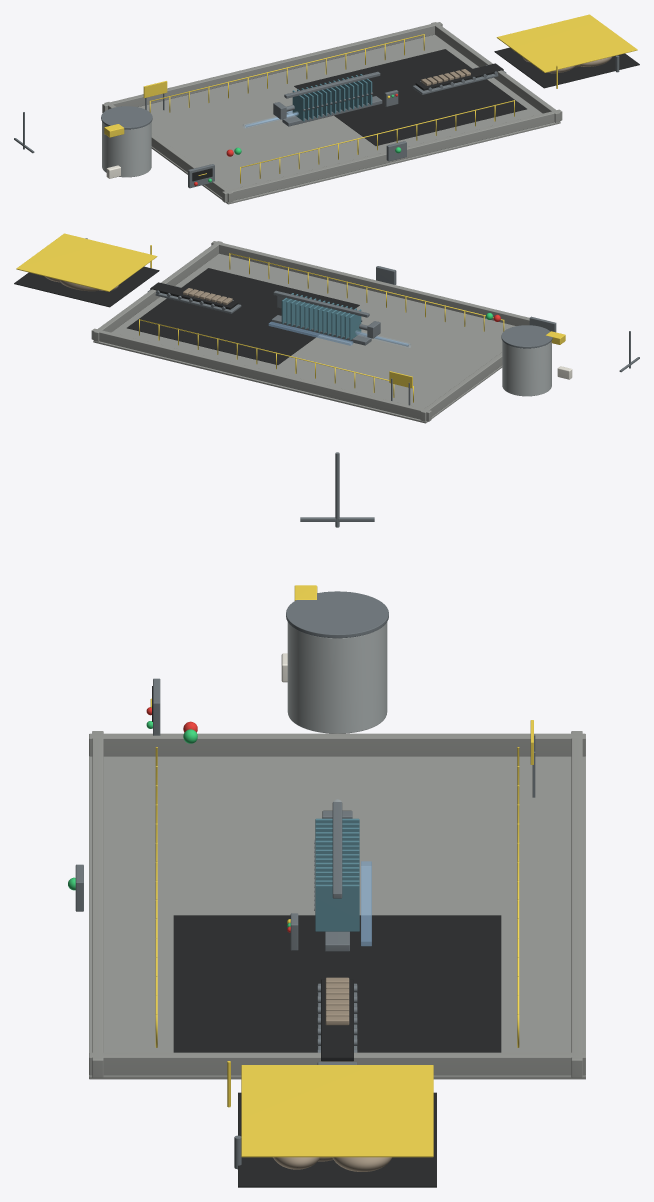
The model's file is level13_dry_stack_field_rebuild.fbx.
3 views of the same model, one above another, from view 1: azimuth 30°, elevation 25°; view 2: azimuth 150°, elevation 25°; view 3: azimuth 270°, elevation 25° (orthographic). The views are drawn at different scales.
Parts seen in each view (by area): view 1: Containment_Pad, Geomembrane_Black_Liner, DryStack_SafeCover, Containment_Berm_South, Containment_Berm_North, Neutralization_Tank_Shell, DryStack_Geomembrane_Exposed_Edge, Containment_Berm_East, Tank_Top_Rim, Containment_Berm_West, Conveyor_Belt, Press_Frame_Top (+7 smaller); view 2: Containment_Pad, Geomembrane_Black_Liner, DryStack_SafeCover, Containment_Berm_North, Containment_Berm_South, Neutralization_Tank_Shell, DryStack_Geomembrane_Exposed_Edge, Containment_Berm_East, Containment_Berm_West, Tank_Top_Rim, Conveyor_Belt, Press_Frame_Top (+7 smaller); view 3: Containment_Pad, Geomembrane_Black_Liner, DryStack_SafeCover, Containment_Berm_West, Neutralization_Tank_Shell, Containment_Berm_East, DryStack_Geomembrane_Exposed_Edge, Containment_Berm_North, Containment_Berm_South, Tank_Top_Rim, PressPlate_15, Conveyor_Belt (+1 smaller).
Part boxes in pixels (bbox=[...]): Containment_Pad: bbox=[138, 34, 560, 204]; Geomembrane_Black_Liner: bbox=[294, 49, 526, 145]; DryStack_SafeCover: bbox=[496, 14, 637, 72]; Containment_Berm_South: bbox=[222, 109, 562, 202]; Containment_Berm_North: bbox=[102, 22, 442, 112]; Neutralization_Tank_Shell: bbox=[102, 122, 151, 177]; DryStack_Geomembrane_Exposed_Edge: bbox=[494, 47, 639, 88]; Containment_Berm_East: bbox=[431, 22, 560, 122]; Tank_Top_Rim: bbox=[101, 106, 152, 129]; Containment_Berm_West: bbox=[104, 102, 233, 202]; Conveyor_Belt: bbox=[415, 63, 503, 90]; Press_Frame_Top: bbox=[284, 71, 380, 98]; Containment_Pad: bbox=[93, 253, 515, 423]; Geomembrane_Black_Liner: bbox=[127, 268, 359, 364]; DryStack_SafeCover: bbox=[16, 233, 157, 291]; Containment_Berm_North: bbox=[91, 328, 431, 421]; Containment_Berm_South: bbox=[211, 241, 529, 325]; Neutralization_Tank_Shell: bbox=[502, 341, 551, 396]; DryStack_Geomembrane_Exposed_Edge: bbox=[14, 266, 159, 307]; Containment_Berm_East: bbox=[93, 241, 222, 341]; Containment_Berm_West: bbox=[420, 352, 502, 421]; Tank_Top_Rim: bbox=[501, 325, 552, 348]; Conveyor_Belt: bbox=[150, 282, 238, 309]; Press_Frame_Top: bbox=[273, 290, 369, 317]; Containment_Pad: bbox=[89, 756, 585, 1079]; Geomembrane_Black_Liner: bbox=[173, 915, 501, 1052]; DryStack_SafeCover: bbox=[241, 1065, 433, 1157]; Containment_Berm_West: bbox=[89, 733, 585, 756]; Neutralization_Tank_Shell: bbox=[287, 622, 387, 733]; Containment_Berm_East: bbox=[89, 1052, 585, 1075]; DryStack_Geomembrane_Exposed_Edge: bbox=[238, 1092, 436, 1187]; Containment_Berm_North: bbox=[571, 731, 582, 1077]; Containment_Berm_South: bbox=[92, 731, 103, 1077]; Tank_Top_Rim: bbox=[286, 591, 388, 638]; PressPlate_15: bbox=[315, 884, 359, 931]; Conveyor_Belt: bbox=[321, 979, 353, 1061].
Bounding box in the file's own units: 6049 × 820 × 2293.
